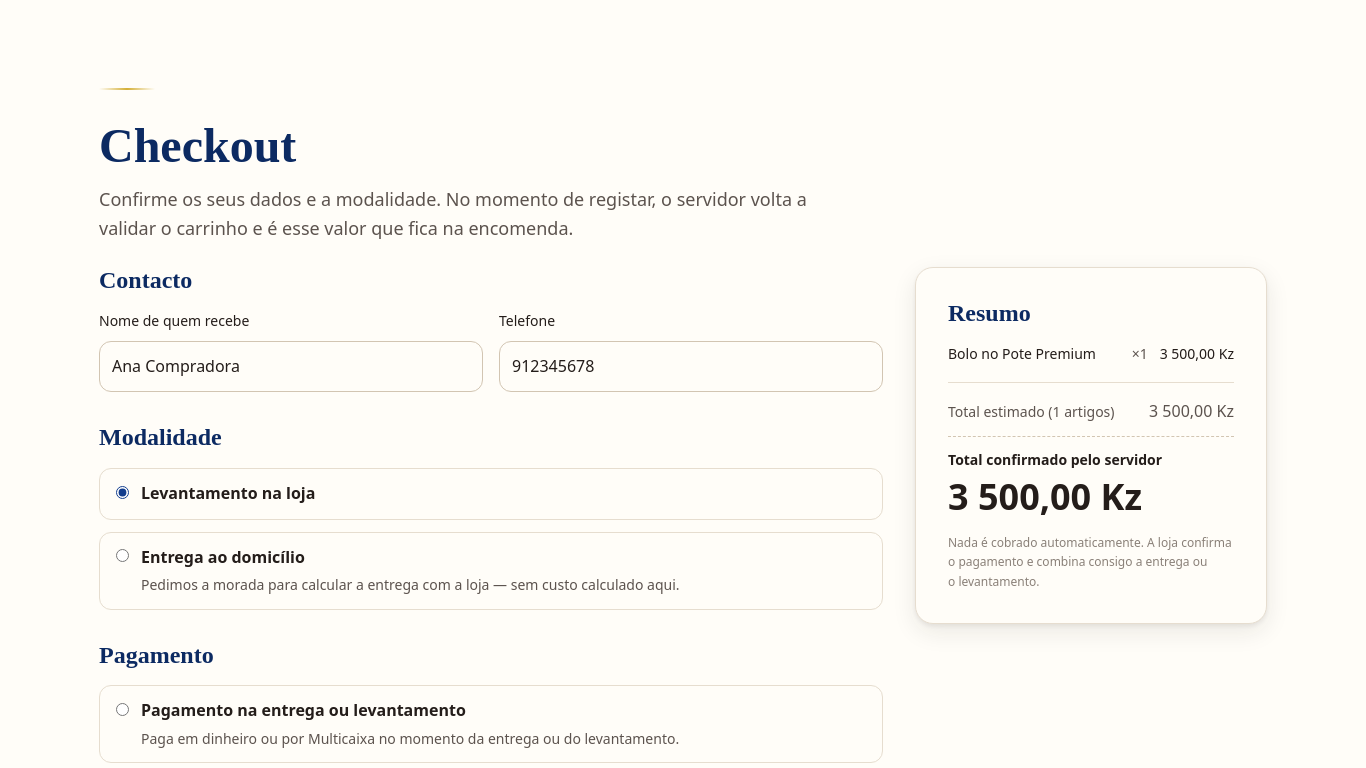
Test: CheckoutPage › com conta cria a encomenda com o total do servidor e limpa o carrinho
Expected: the field labelled "Nome de quem recebe" holds "Ana Compradora", x1=99 y1=341 x2=483 y2=392
Expected: the field labelled "Telefone" holds "912345678", x1=499 y1=341 x2=883 y2=392
Click the radio button labelled "Pagamento na entrega".
click(122, 709)  # box x1=116 y1=703 x2=129 y2=716
(page scrolled)
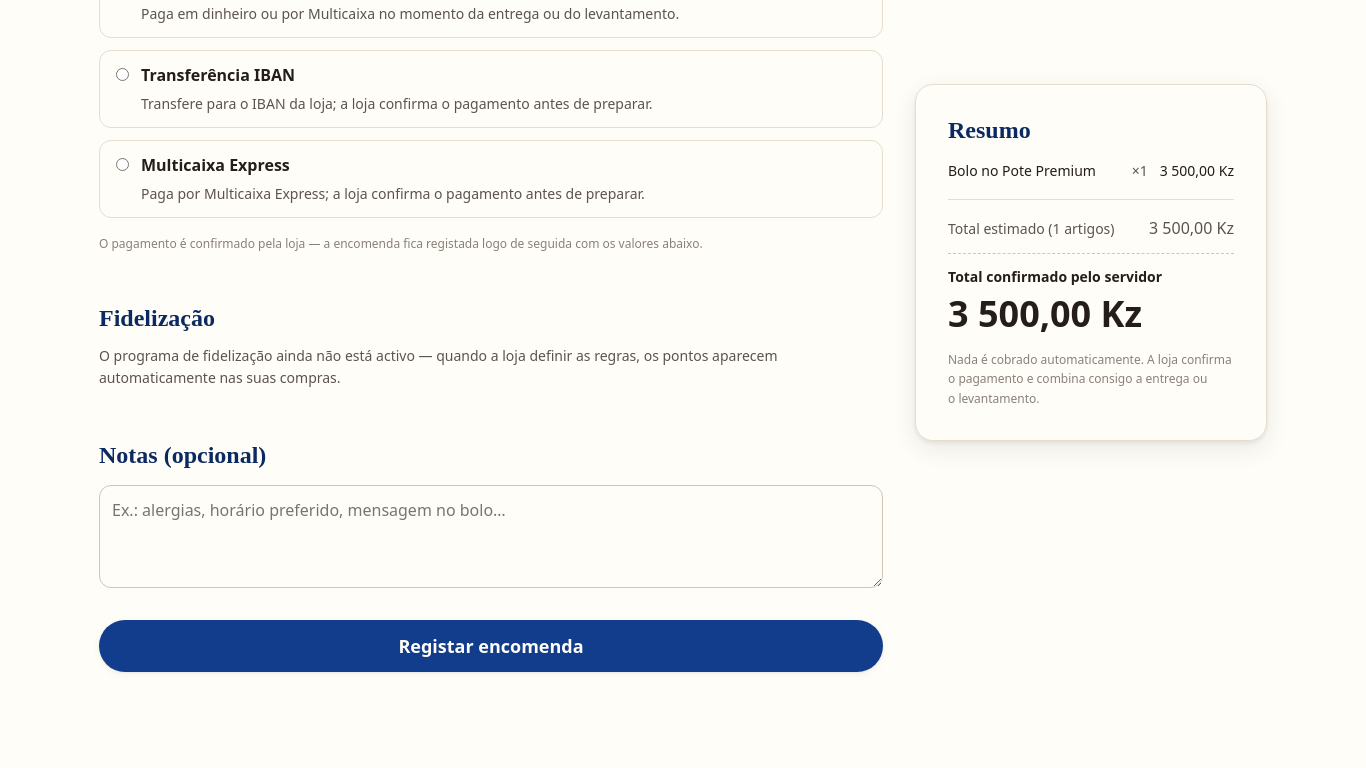
Click the button "Registar encomenda".
click(491, 646)  # box x1=99 y1=620 x2=883 y2=672
(page scrolled)
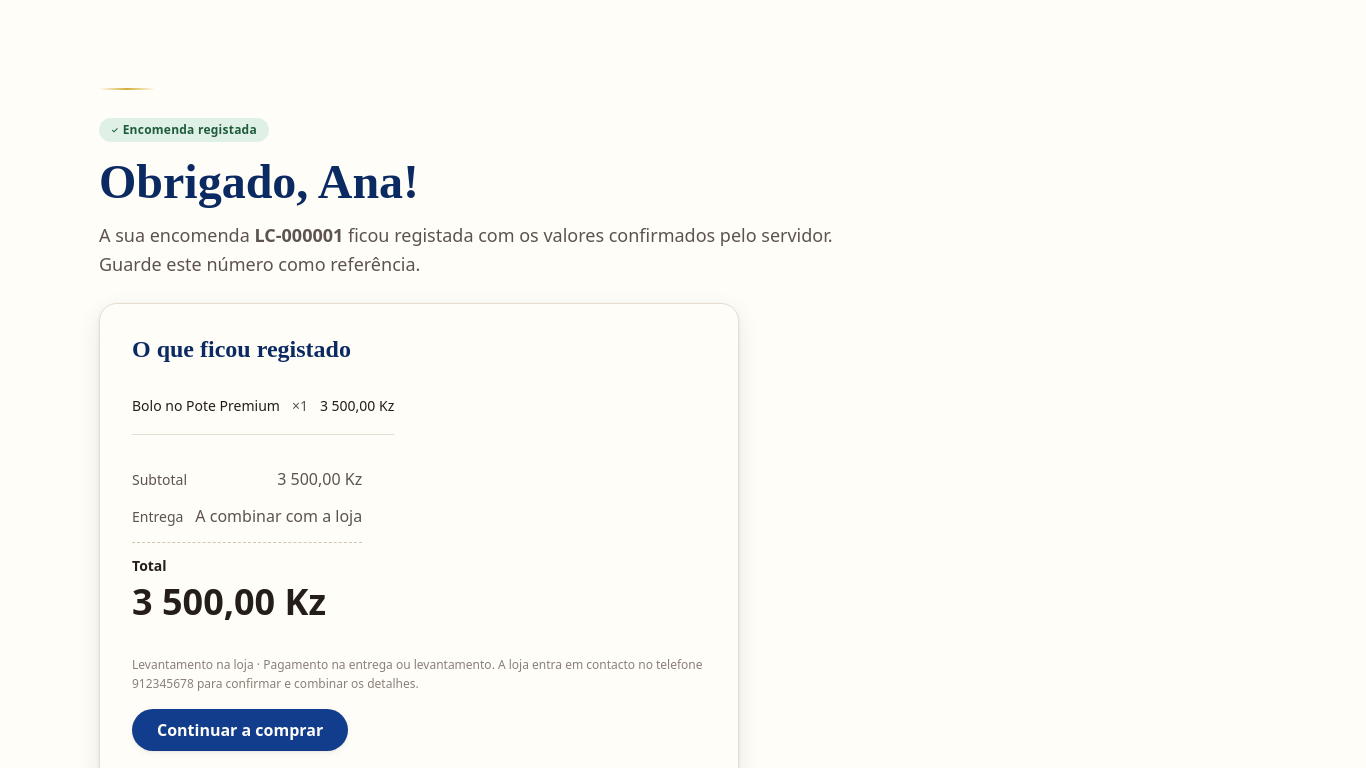
Expected: the text "LC-000001" is shown, x1=254 y1=223 x2=343 y2=247
Expected: the text "✓ Encomenda registada" is shown, x1=99 y1=118 x2=269 y2=142
